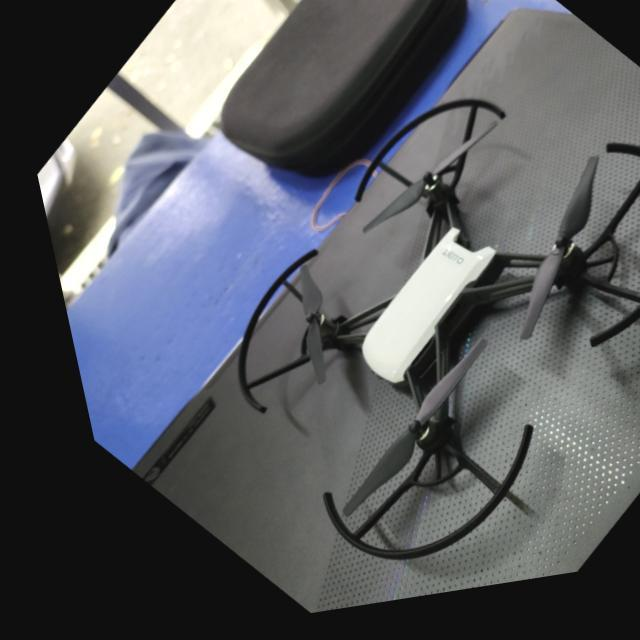drone: (209, 105, 639, 583)
